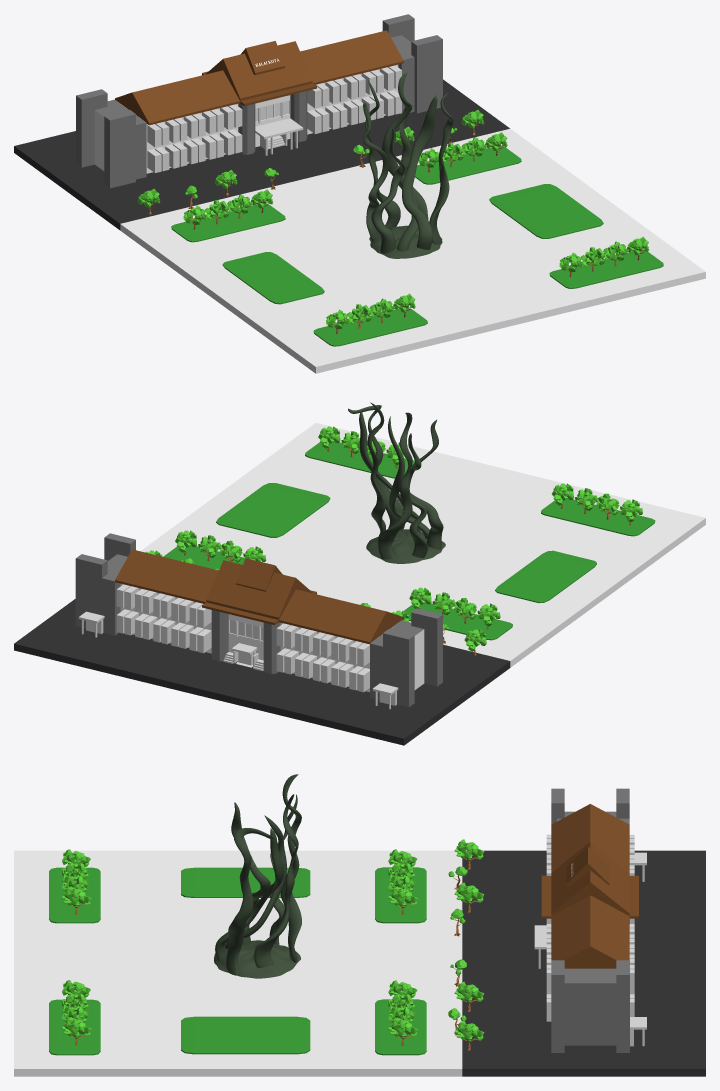
The picture shows the model from 3 angles, top to bottom: view 1: azimuth 30°, elevation 25°; view 2: azimuth 150°, elevation 25°; view 3: azimuth 270°, elevation 25°; orthographic projection. The views are drawn at different scales.
Visible parts, largest first — view 1: Cube.054, Cube, Cube.050, Rumput_Laut, Cube.060, Cube.059, Cube.064, Cube.062, Cube.061, Cube.063, Cube.057, Cube.001; view 2: Cube.054, Cube, Cube.050, Rumput_Laut, Cube.060, Cube.059, Cube.062, Cube.061, Cube.064, Cube.057, Cube.063; view 3: Cube.054, Cube.050, Rumput_Laut, Cube, Cube.060, Cube.059, Cube.061, Cube.063, Cube.064, Cube.062, Cube.057.
Boxes of the visible parts, x1,y1,x2,y2 form: Cube.054: (14, 79, 705, 373); Cube: (76, 14, 442, 188); Cube.050: (115, 30, 403, 125); Rumput_Laut: (363, 72, 453, 258); Cube.060: (489, 184, 603, 238); Cube.059: (222, 252, 324, 304); Cube.064: (171, 203, 285, 242); Cube.062: (313, 308, 427, 346); Cube.061: (549, 250, 663, 288); Cube.063: (415, 146, 521, 184); Cube.057: (240, 41, 284, 75); Cube.001: (255, 118, 303, 139); Cube.054: (14, 423, 705, 745); Cube: (75, 533, 442, 707); Cube.050: (115, 549, 403, 644); Rumput_Laut: (348, 402, 445, 563); Cube.060: (216, 483, 330, 537); Cube.059: (495, 550, 596, 603); Cube.062: (541, 498, 655, 536); Cube.061: (305, 441, 414, 478); Cube.064: (401, 602, 512, 640); Cube.057: (236, 558, 282, 591); Cube.063: (163, 545, 276, 569); Cube.054: (14, 850, 705, 1076); Cube.050: (541, 804, 638, 968); Rumput_Laut: (214, 774, 301, 978); Cube: (551, 788, 629, 1052); Cube.060: (181, 1016, 310, 1054); Cube.059: (181, 867, 310, 897); Cube.061: (49, 999, 100, 1055); Cube.063: (375, 999, 426, 1055); Cube.064: (375, 867, 426, 923); Cube.062: (49, 867, 100, 923); Cube.057: (566, 846, 609, 886).
Size of what is drawn, in the model's own units: 60 by 23.59 by 80.4.
